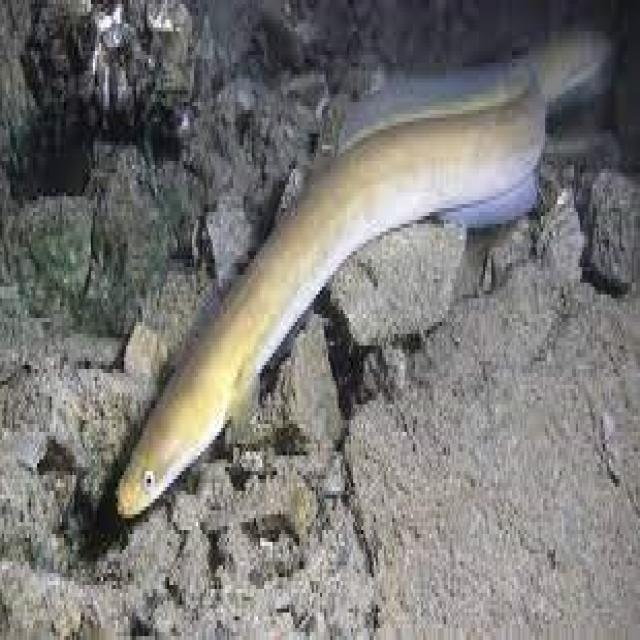Freshwater-Eel: (90, 44, 613, 579)
